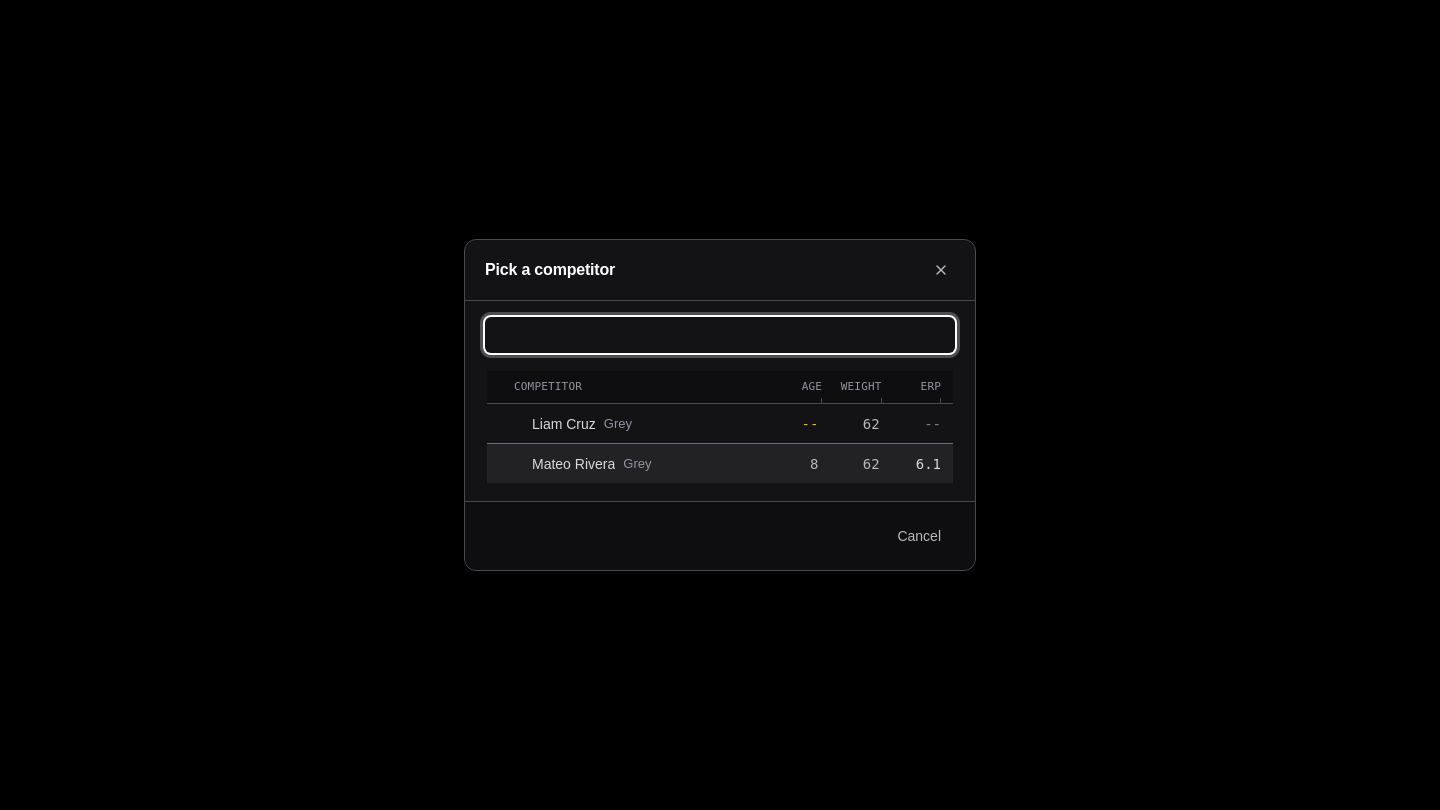
Test: KidPickerDialog › offers a way out of an empty search
This screenshot has width=1440, height=810.
Type "zzz" into the field named "Search competitors" at (720, 335), box [485, 317, 955, 353]
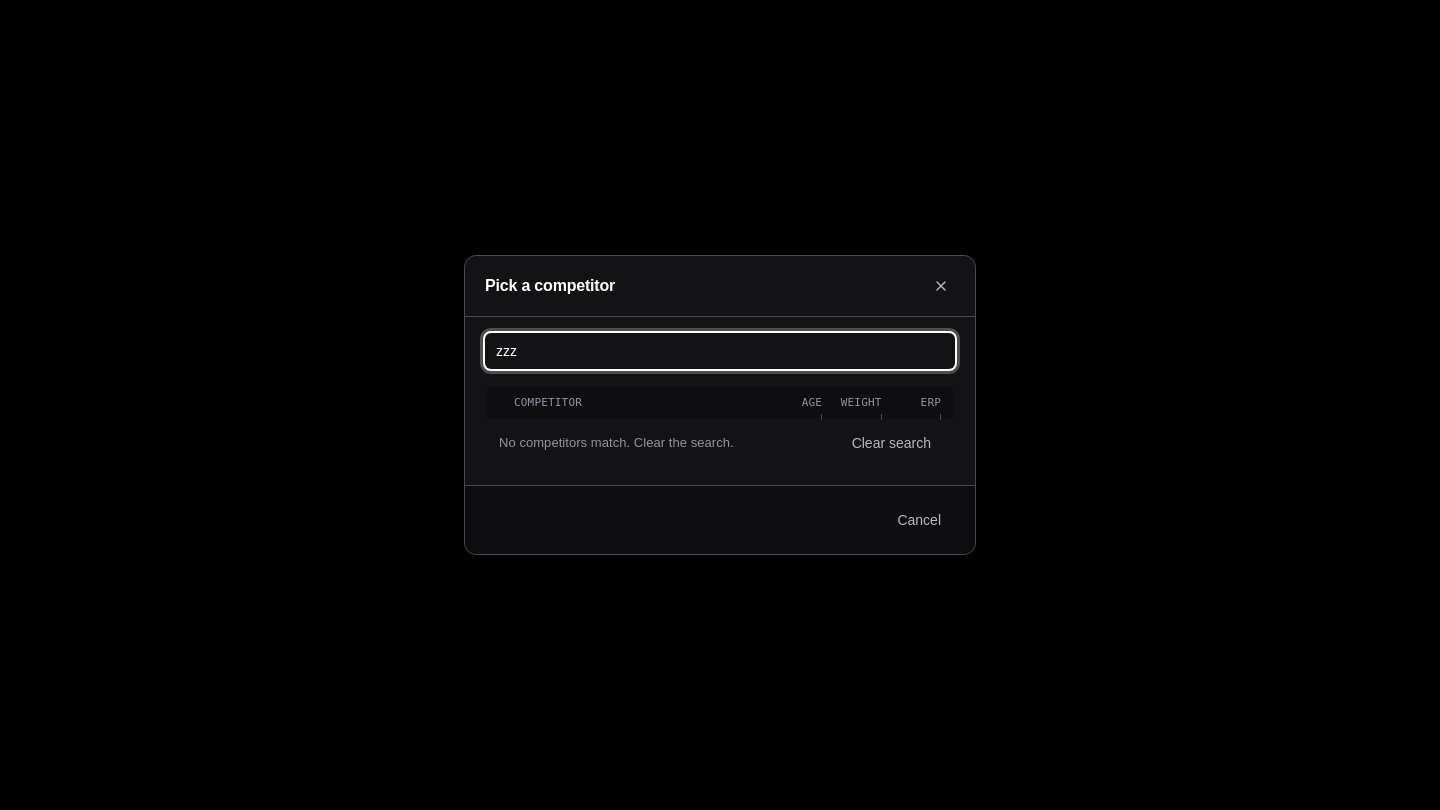
Expected: the text "No competitors match. Clear the search." is shown, [499, 434, 734, 452]
Click the button "Clear search" at (891, 443), box [842, 425, 941, 461]
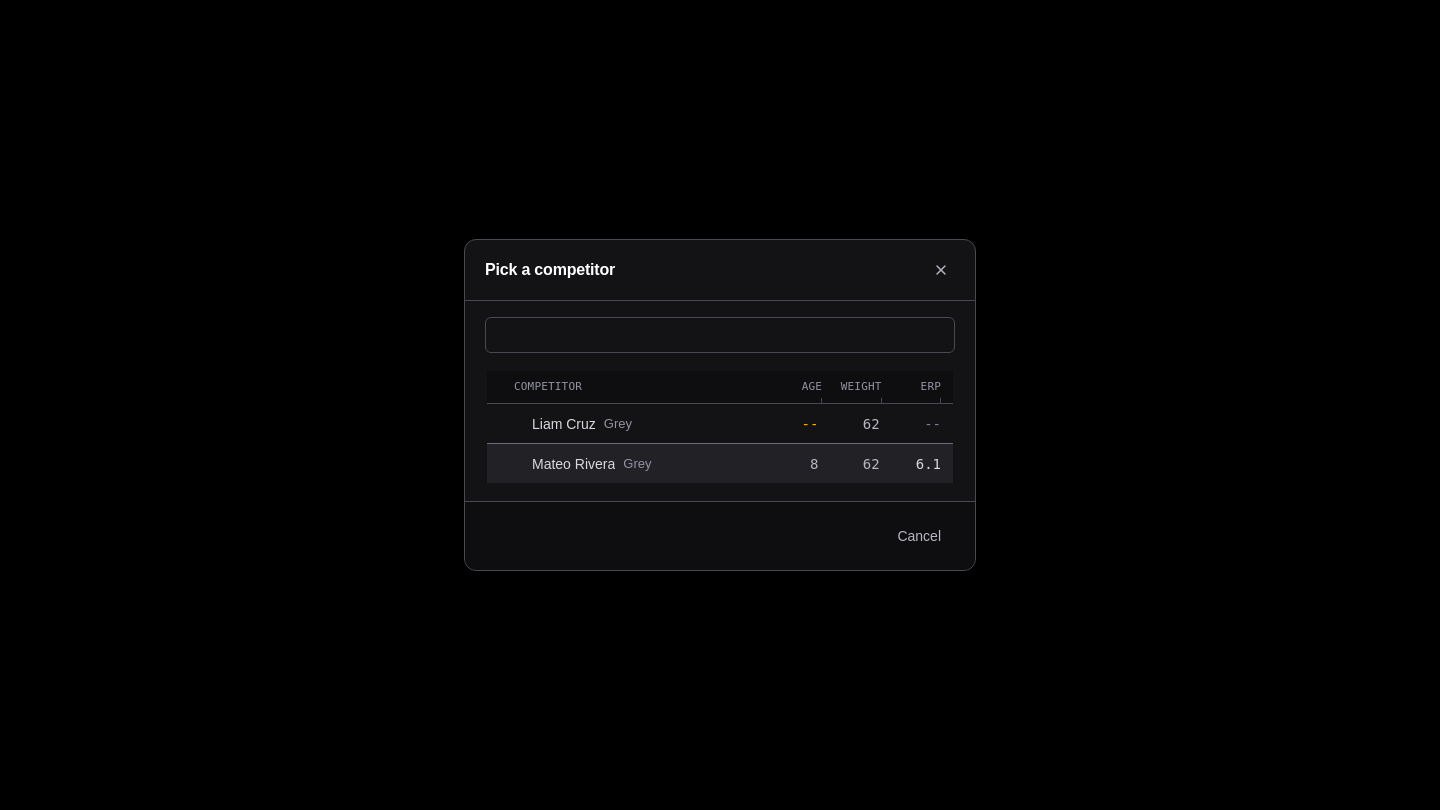
Expected: the button "Mateo Rivera Grey 8 62 6.1" is shown, [487, 443, 953, 483]
